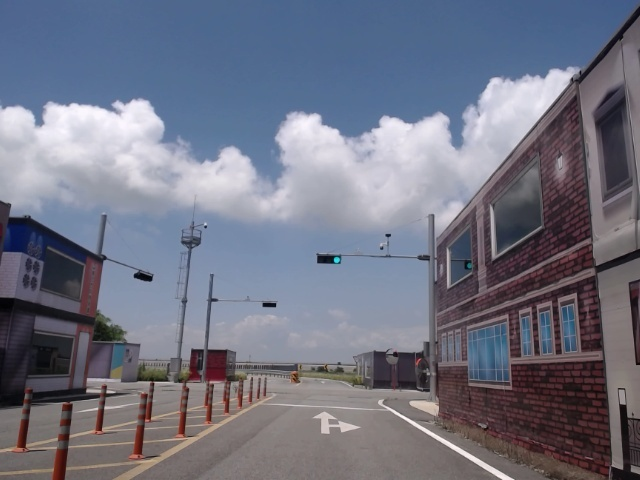green_3: (318, 256, 341, 263)
